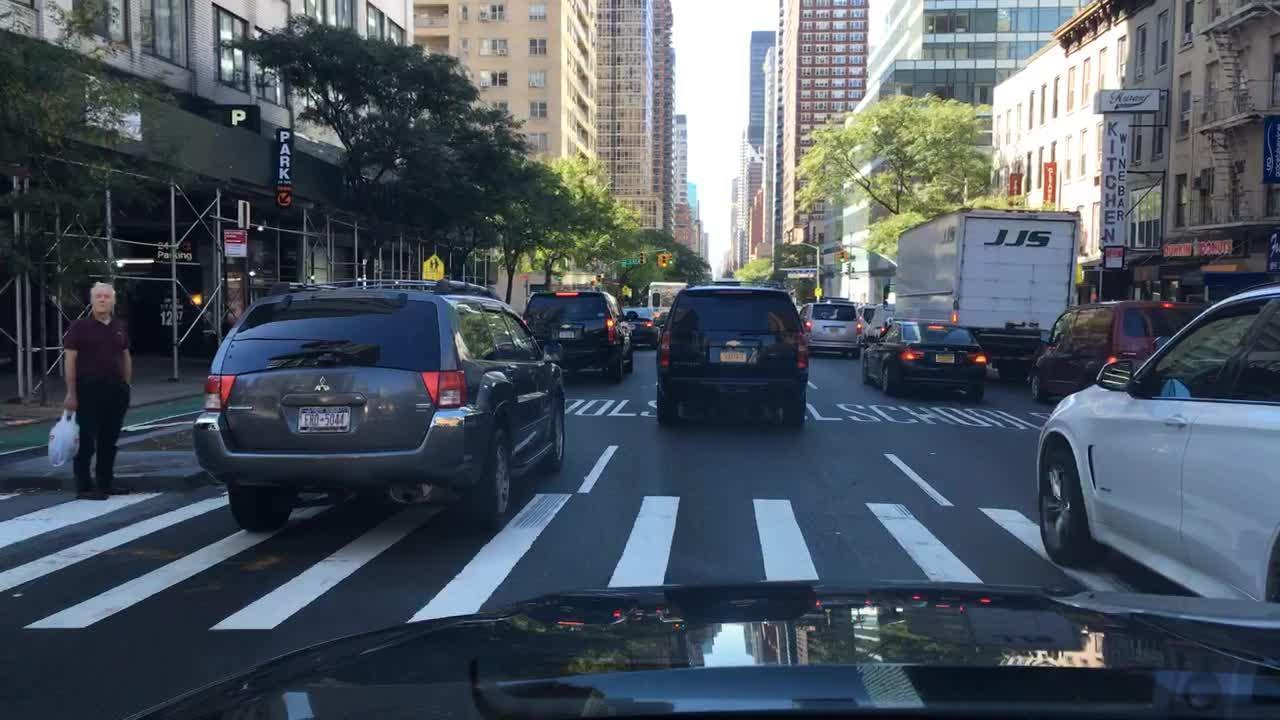Mitsubishi: (312, 372, 331, 397)
chevrolet: (722, 333, 743, 351), (558, 320, 572, 331)
